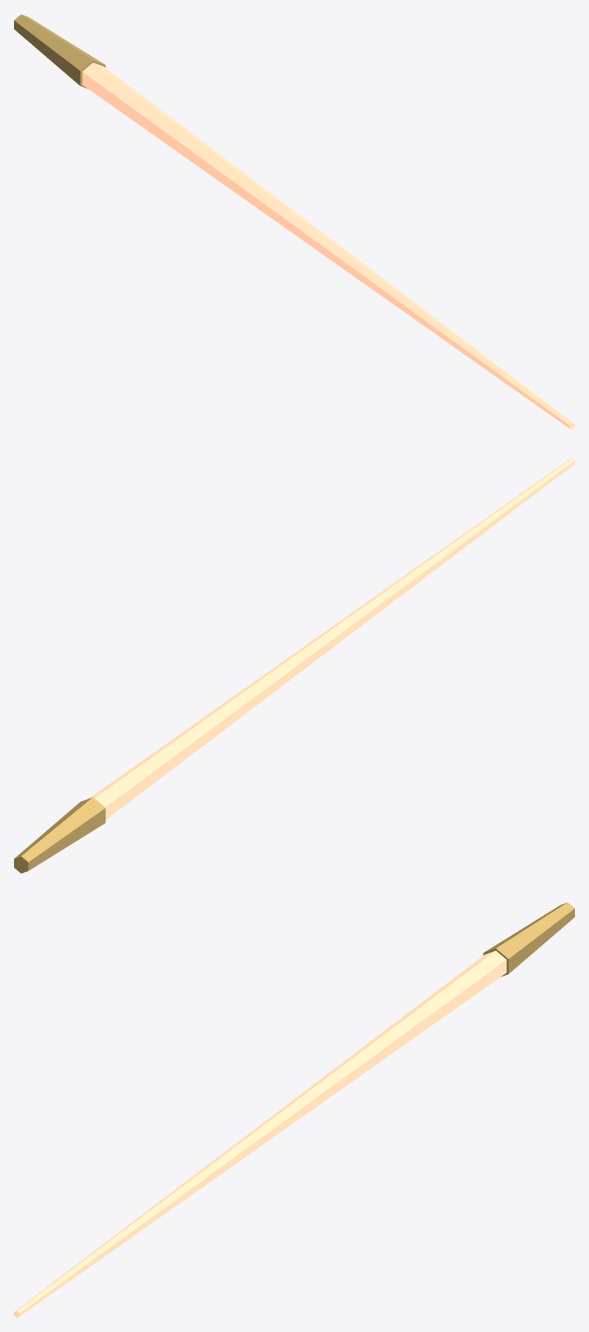
Rendered from Proj_AegisSniper.fbx.
3 renders of one model, top to bottom at view 1: azimuth 30°, elevation 25°; view 2: azimuth 150°, elevation 25°; view 3: azimuth 330°, elevation 25°, orthographic.
Visible parts, largest first — view 1: PSN_Trail, PSN_Slug; view 2: PSN_Trail, PSN_Slug; view 3: PSN_Trail, PSN_Slug.
Part boxes in pixels (x1,y1,x2,y2): PSN_Trail: (82,62,574,429); PSN_Slug: (14,14,105,88); PSN_Trail: (89,458,574,819); PSN_Slug: (14,797,105,873); PSN_Trail: (14,950,506,1317); PSN_Slug: (483,902,574,976).
Bounding box in the file's own units: 0.0242 × 0.028 × 0.92.
